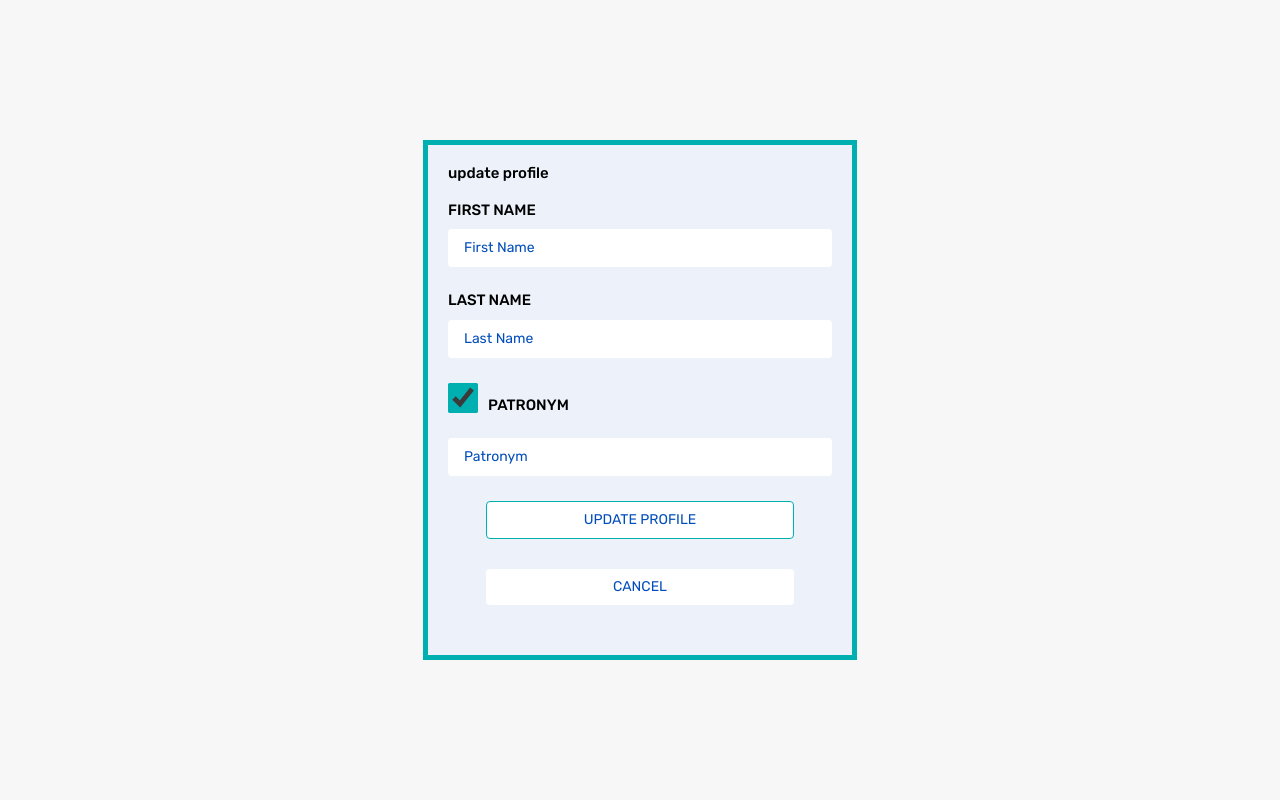
Test case: UserProfile in Header Component › Test fields validation "required"
The width and height of the screenshot is (1280, 800).
Clear the field labelled "first name" at [640, 248], box [448, 229, 832, 268]
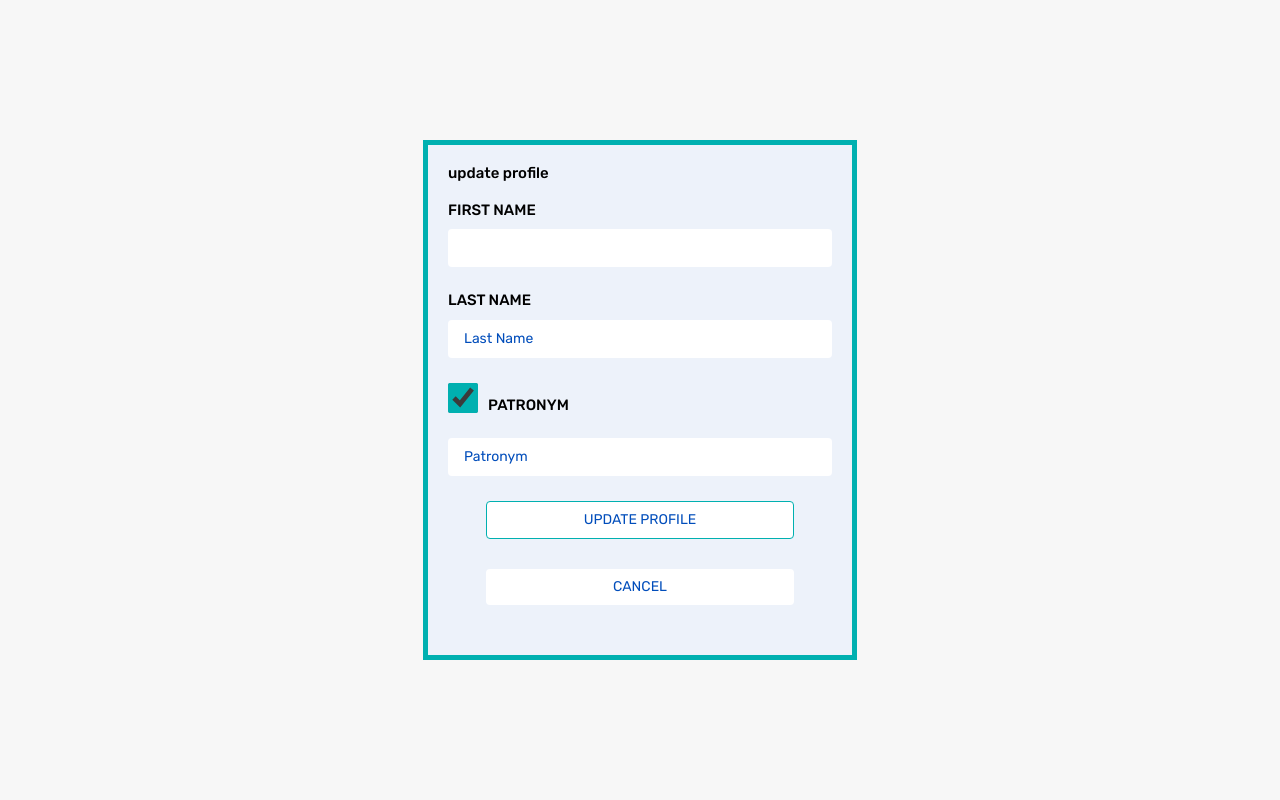
Clear the field labelled "last name" at [640, 339], box [448, 320, 832, 358]
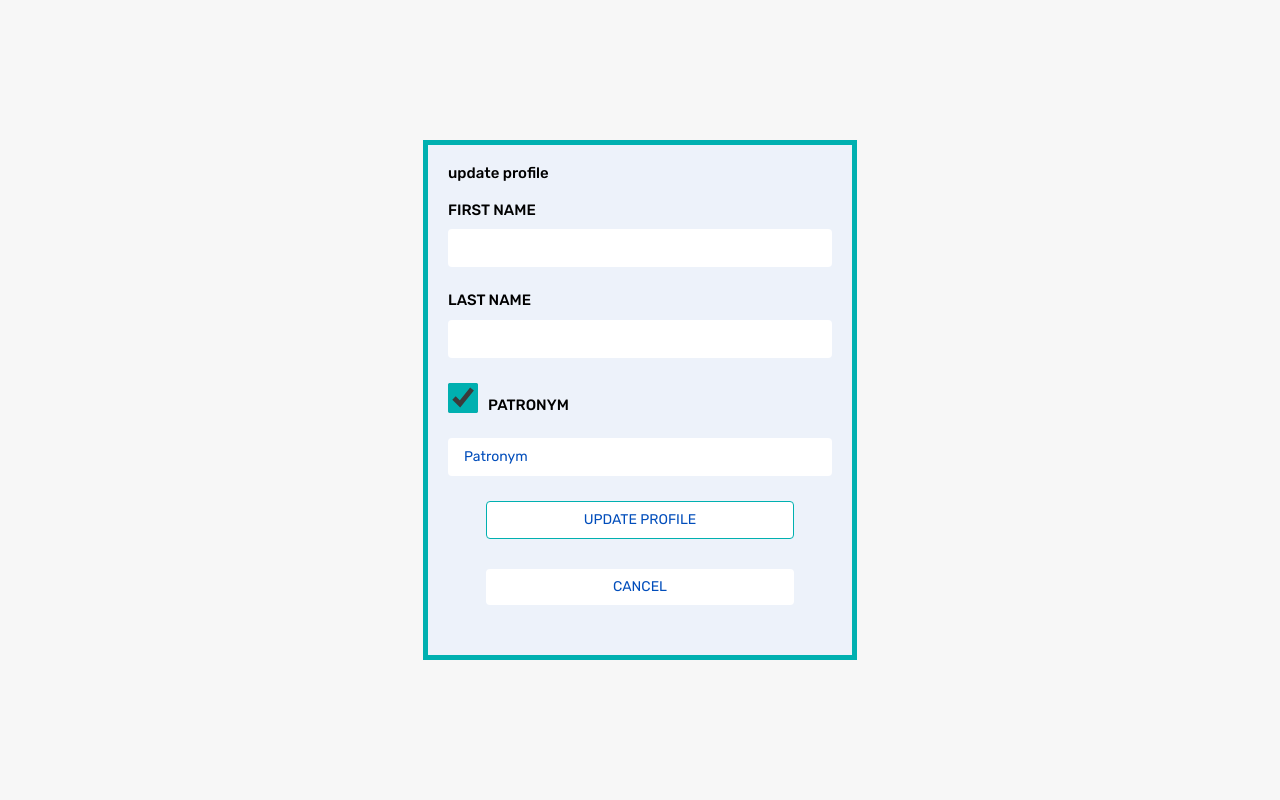
Clear the field with test id "input-patronym" at [640, 457], box [448, 438, 832, 476]
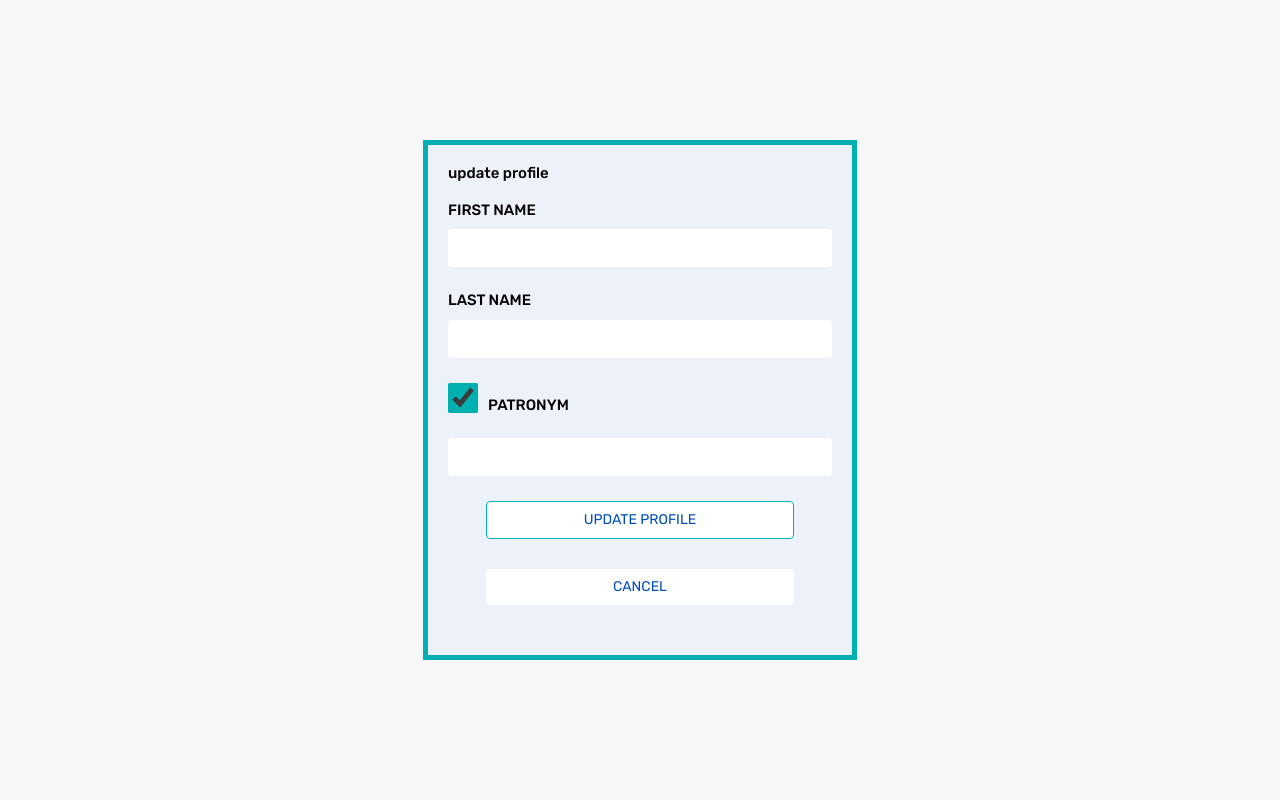
Click the button with test id "button-submit-edit-form" at [640, 520], box [486, 501, 794, 539]
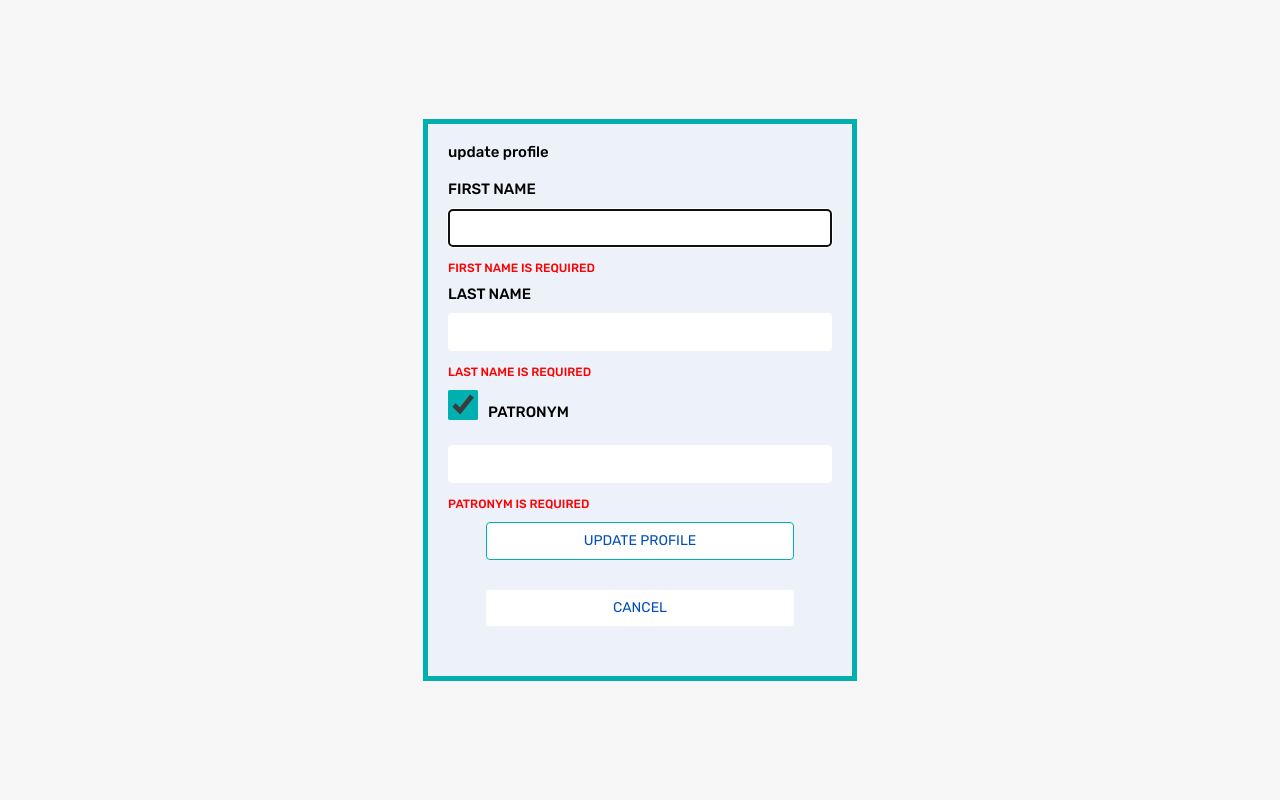
expect the text "first name is required" is shown: met, box [448, 261, 595, 275]
expect the text "last name is required" is shown: met, box [448, 365, 591, 379]
expect the text "patronym is required" is shown: met, box [448, 497, 589, 511]
